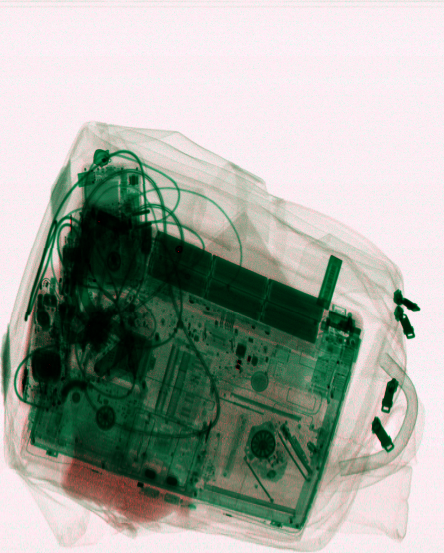Plastic Bottle: (61, 433, 190, 522)
